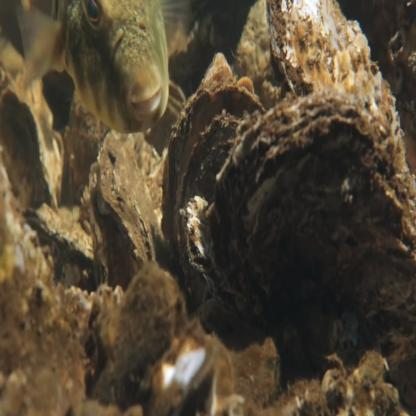3: (168, 82, 266, 297), (22, 203, 95, 262)
Oyster-Closed: (211, 89, 414, 327), (265, 0, 407, 159), (98, 131, 164, 270), (113, 264, 183, 369)
Oyster-Open: (235, 4, 271, 83), (200, 54, 235, 86)
